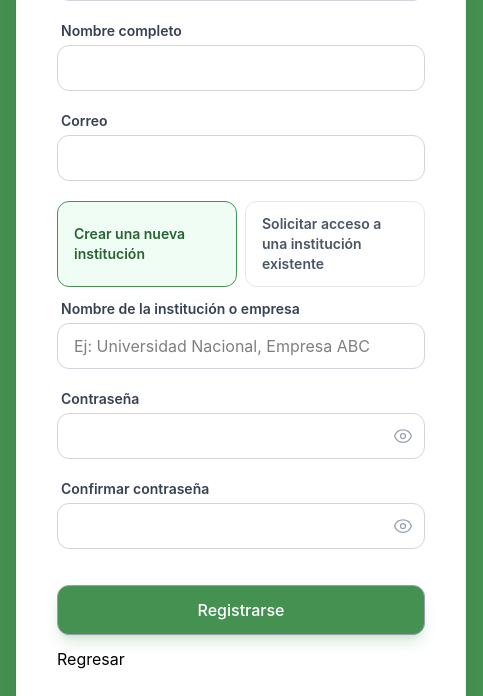
Scenario: MX-02 | Gestión de instituciones, administradores y wallets | Frontend Admin | Registro institucional › [MX-02][SOPORTE-REGRESION][INTEGRACION] limpia valores al alternar entre institución nueva y existente
The width and height of the screenshot is (483, 696).
(page scrolled)
Type "Nueva Institución" into the field with test id "register-tenant-name" at (241, 346), box [57, 323, 425, 369]
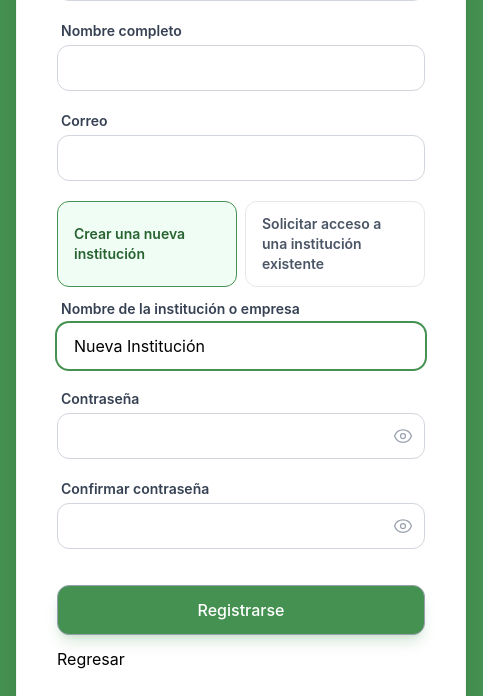
Click the button "Solicitar acceso a una institución existente" at (335, 244), box [245, 201, 425, 287]
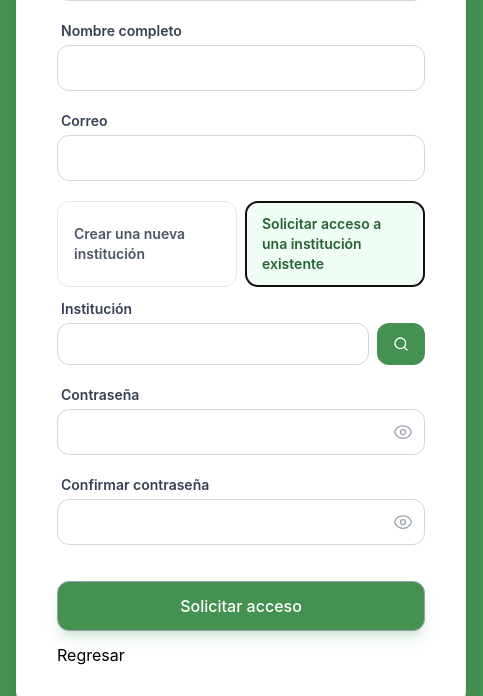
Now the field with test id "register-tenant-name" is gone
Type "Colegio" into the field with test id "register-institution-search" at (213, 344), box [57, 323, 369, 365]
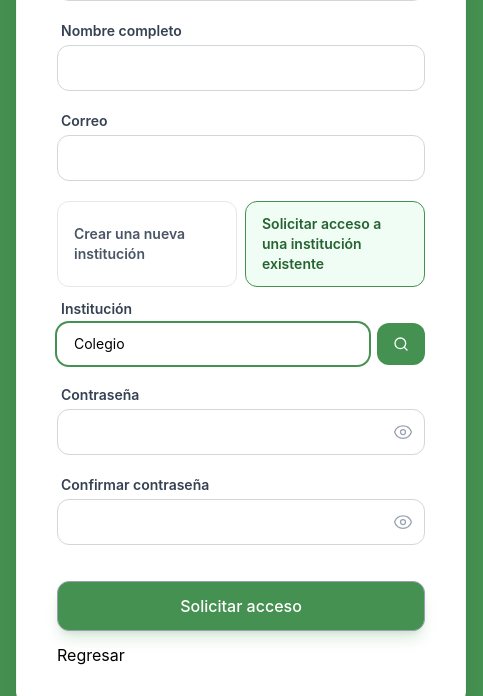
Click the 1st button named "Buscar" at (401, 344), box [377, 323, 425, 365]
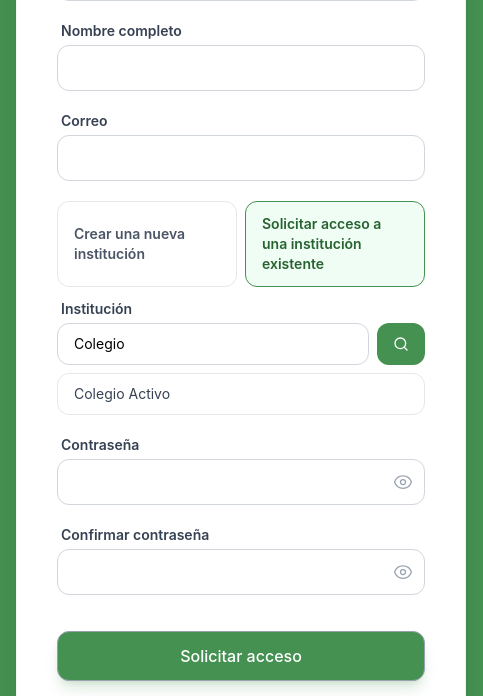
Click the option "Colegio Activo" at (122, 394), box [58, 374, 424, 414]
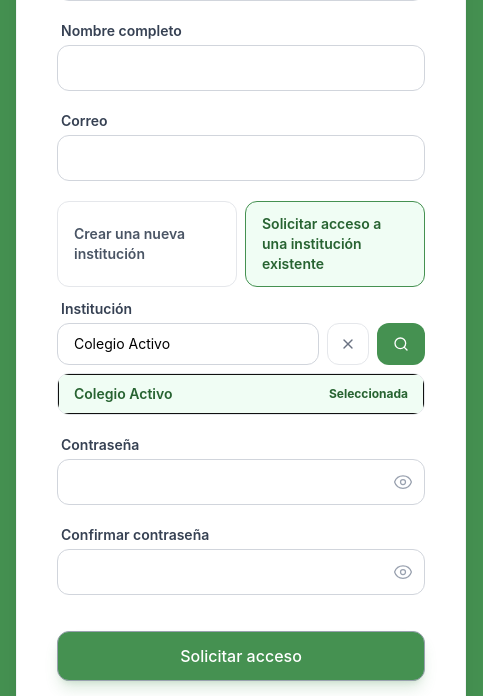
Now the field with test id "register-institution-search" holds "Colegio Activo", box [57, 323, 319, 365]
Click the button "Crear una nueva institución" at (147, 244), box [57, 201, 237, 287]
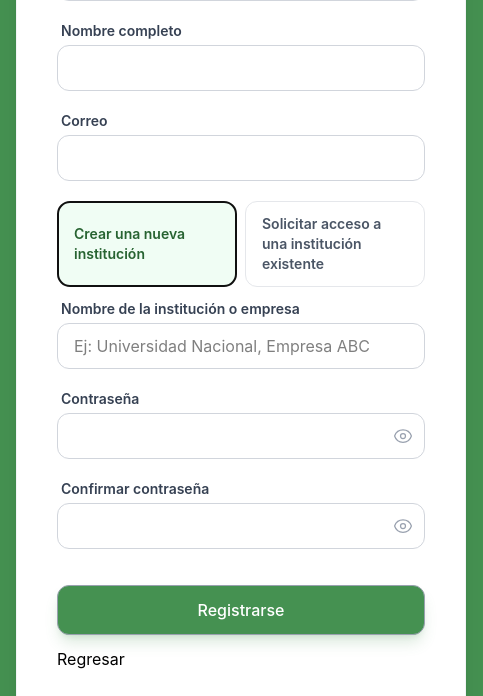
Now the label with test id "register-institution-search" is gone
Now the field with test id "register-tenant-name" is empty, box [57, 323, 425, 369]
